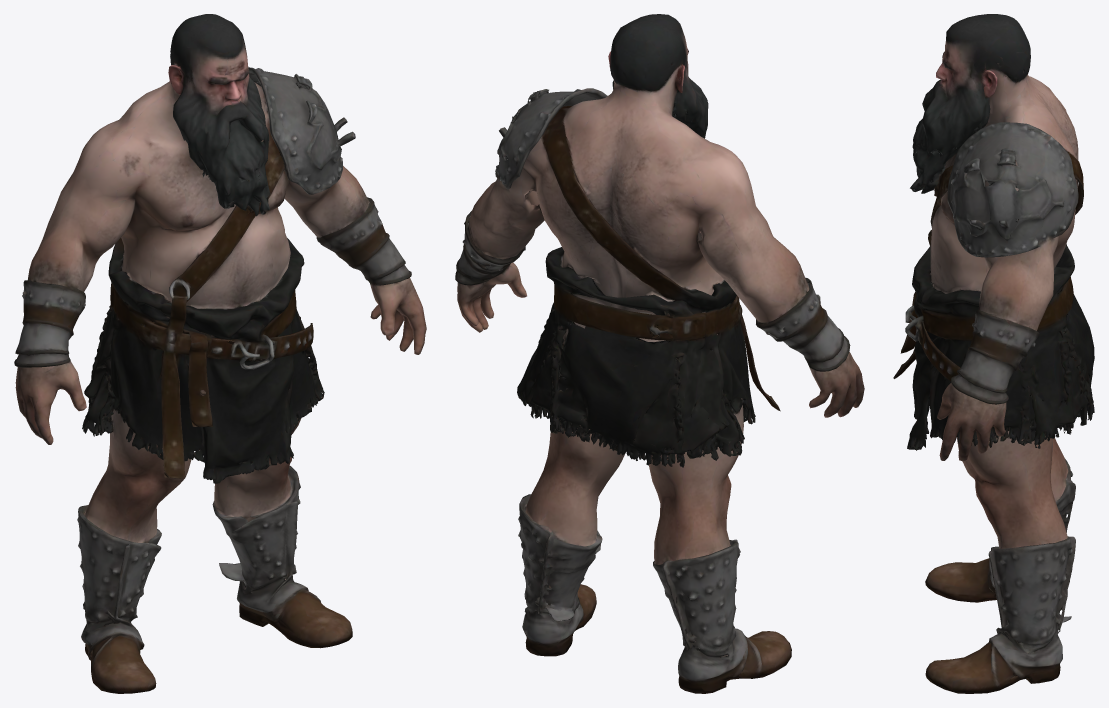
The model's file is dwarf.glb.
3 renders of one model, left to right at view 1: azimuth 30°, elevation 25°; view 2: azimuth 150°, elevation 25°; view 3: azimuth 270°, elevation 25°, orthographic. The views are drawn at different scales.
Parts seen in each view (by area): view 1: world; view 2: world; view 3: world.
Boxes of the visible parts, x1,y1,x2,y2 form: world: [14, 14, 426, 693]; world: [455, 14, 864, 693]; world: [893, 14, 1094, 693].
Size of the model in its own units: 0.6506 by 0.9976 by 0.2942.
1 material, 1 textured.
